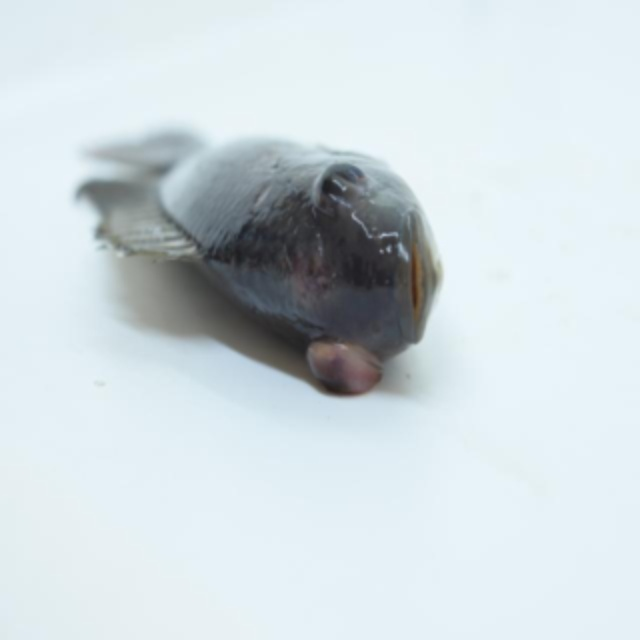streptococcus Disease: (71, 112, 448, 396)
